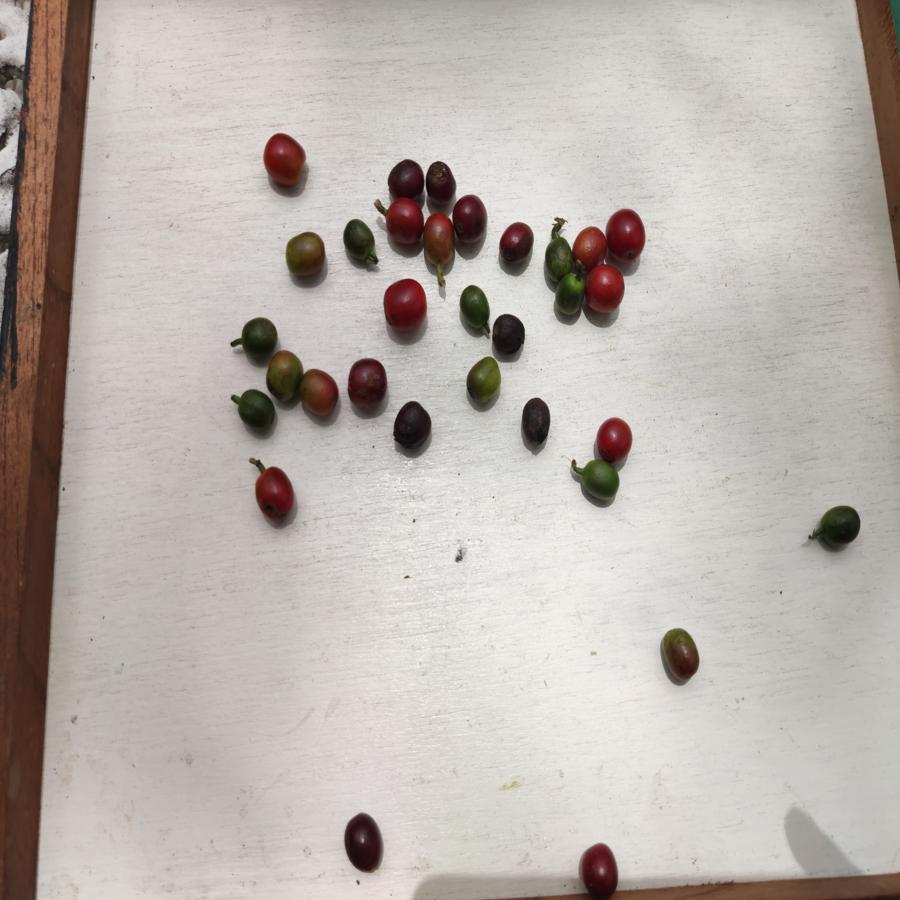Inmaduro: (817, 499, 864, 553), (340, 219, 377, 270), (581, 459, 622, 505), (236, 389, 275, 431), (459, 284, 491, 334), (241, 316, 276, 357), (554, 275, 584, 321), (544, 236, 573, 277)
Maduro: (253, 466, 299, 523), (263, 132, 307, 191), (382, 278, 428, 334), (607, 209, 648, 263), (584, 264, 626, 314), (594, 414, 635, 463), (384, 198, 424, 248), (420, 213, 455, 264), (574, 225, 607, 272)
Pinton: (658, 625, 703, 681), (297, 368, 341, 420), (284, 232, 328, 278), (464, 356, 503, 404), (267, 351, 302, 400)
Sobremaduro: (342, 809, 384, 875), (578, 837, 621, 899), (347, 356, 389, 410), (391, 399, 433, 453), (452, 194, 489, 244), (520, 397, 553, 448), (499, 221, 535, 267), (386, 157, 424, 200), (491, 314, 527, 354), (426, 160, 456, 206)
